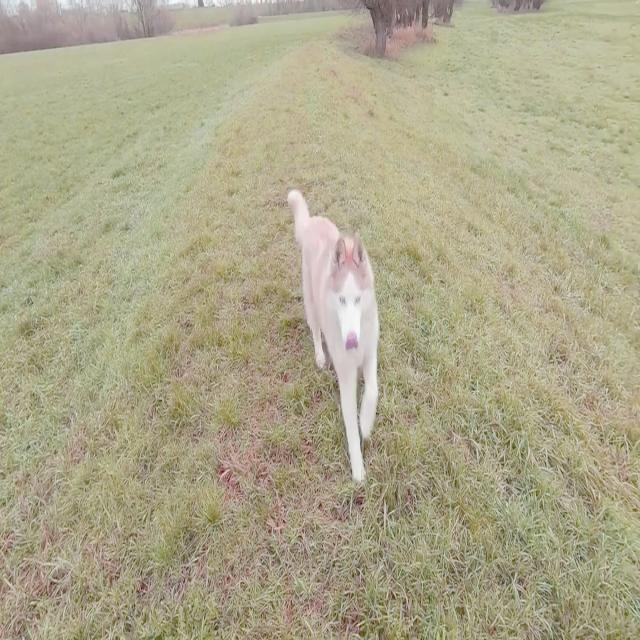Dog: (287, 191, 378, 484)
